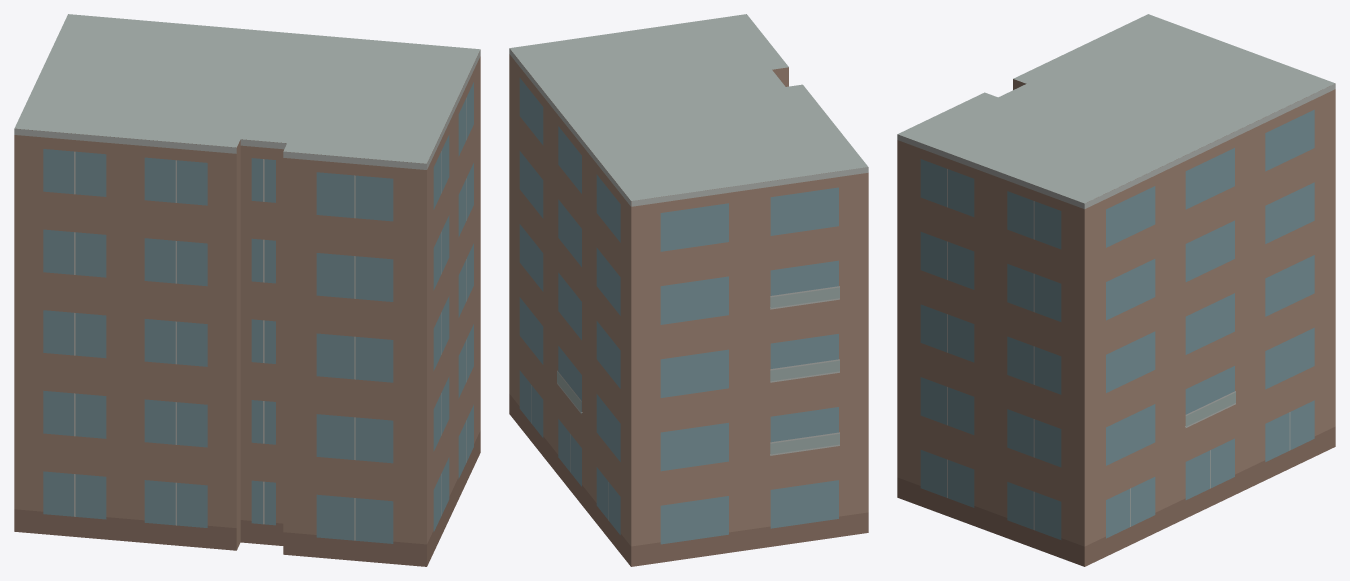
Rendered from survey-upis-32893277.glb.
3 renders of one model, left to right at view 1: azimuth 30°, elevation 25°; view 2: azimuth 150°, elevation 25°; view 3: azimuth 270°, elevation 25°, orthographic. The views are drawn at different scales.
Visible parts, largest first — view 1: survey-upis-32893277.tmp; view 2: survey-upis-32893277.tmp; view 3: survey-upis-32893277.tmp.
Boxes of the visible parts, x1=… form: survey-upis-32893277.tmp: x1=14, y1=14, x2=480, y2=566; survey-upis-32893277.tmp: x1=509, y1=14, x2=868, y2=566; survey-upis-32893277.tmp: x1=897, y1=14, x2=1335, y2=566.
Size of the model in its own units: 17.35 by 15.5 by 16.95.
